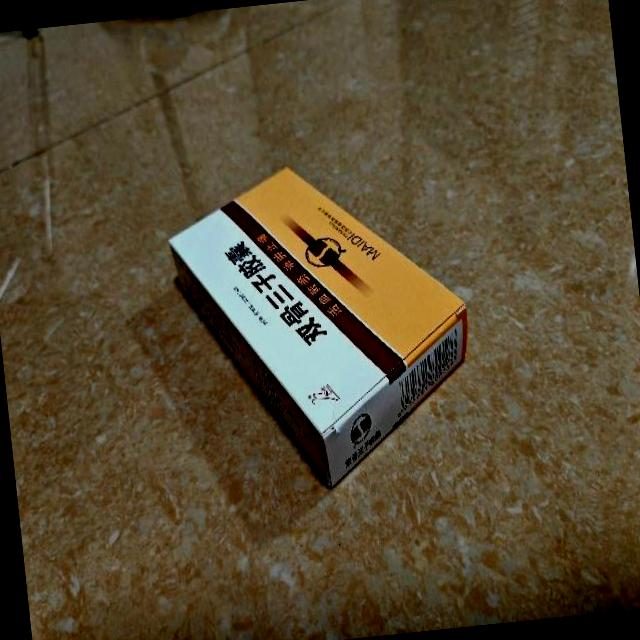box: (160, 148, 483, 505)
